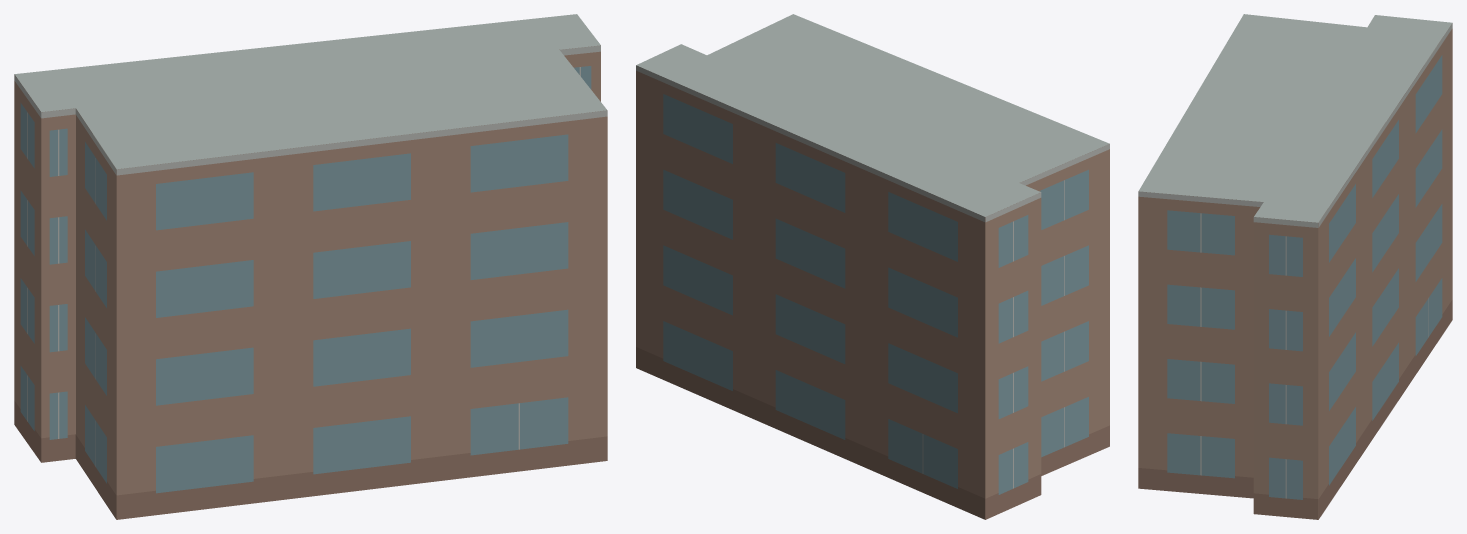
The model's file is survey-upis-32828125.glb.
3 renders of one model, left to right at view 1: azimuth 30°, elevation 25°; view 2: azimuth 150°, elevation 25°; view 3: azimuth 270°, elevation 25°, orthographic. The views are drawn at different scales.
Visible parts, largest first — view 1: survey-upis-32828125.tmp; view 2: survey-upis-32828125.tmp; view 3: survey-upis-32828125.tmp.
Part boxes in pixels (x1,y1,x2,y2): survey-upis-32828125.tmp: [14, 14, 607, 519]; survey-upis-32828125.tmp: [636, 14, 1109, 519]; survey-upis-32828125.tmp: [1138, 14, 1452, 519].
Size of the model in its own units: 20.65 by 13.7 by 13.14.
